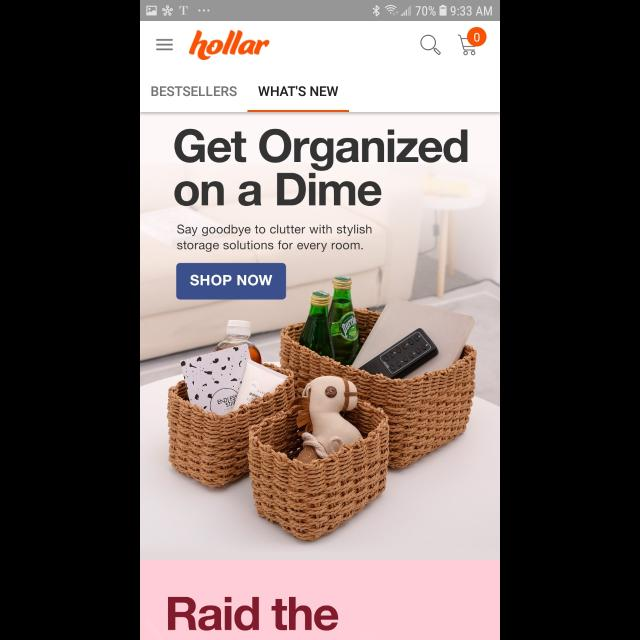backgroundimage: (140, 112, 500, 640)
icon: (458, 28, 487, 56), (421, 36, 442, 56), (156, 39, 174, 51)
image: (190, 30, 270, 61)
text: (175, 129, 468, 207), (168, 596, 340, 632), (176, 224, 372, 252), (258, 86, 338, 98), (151, 87, 237, 97)
textbutton: (176, 264, 286, 300)
uppertaskbar: (140, 1, 500, 22)
